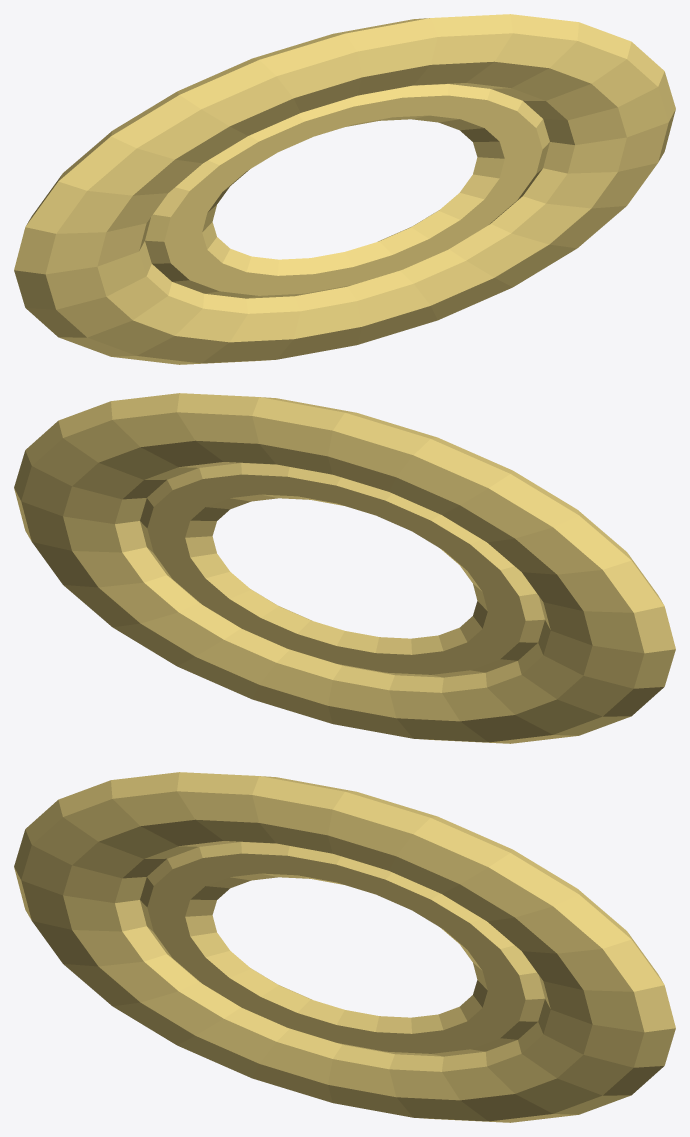
Rendered from buckle_07.glb.
3 views of the same model, one above another, from view 1: azimuth 30°, elevation 25°; view 2: azimuth 150°, elevation 25°; view 3: azimuth 330°, elevation 25° (orthographic).
Visible parts, largest first — view 1: BuckleExport; view 2: BuckleExport; view 3: BuckleExport.
Part boxes in pixels (x1=…): BuckleExport: x1=14, y1=14, x2=675, y2=364; BuckleExport: x1=14, y1=393, x2=675, y2=743; BuckleExport: x1=14, y1=772, x2=675, y2=1122.
Bounding box in the file's own units: 0.035 × 0.0157 × 0.00315.
